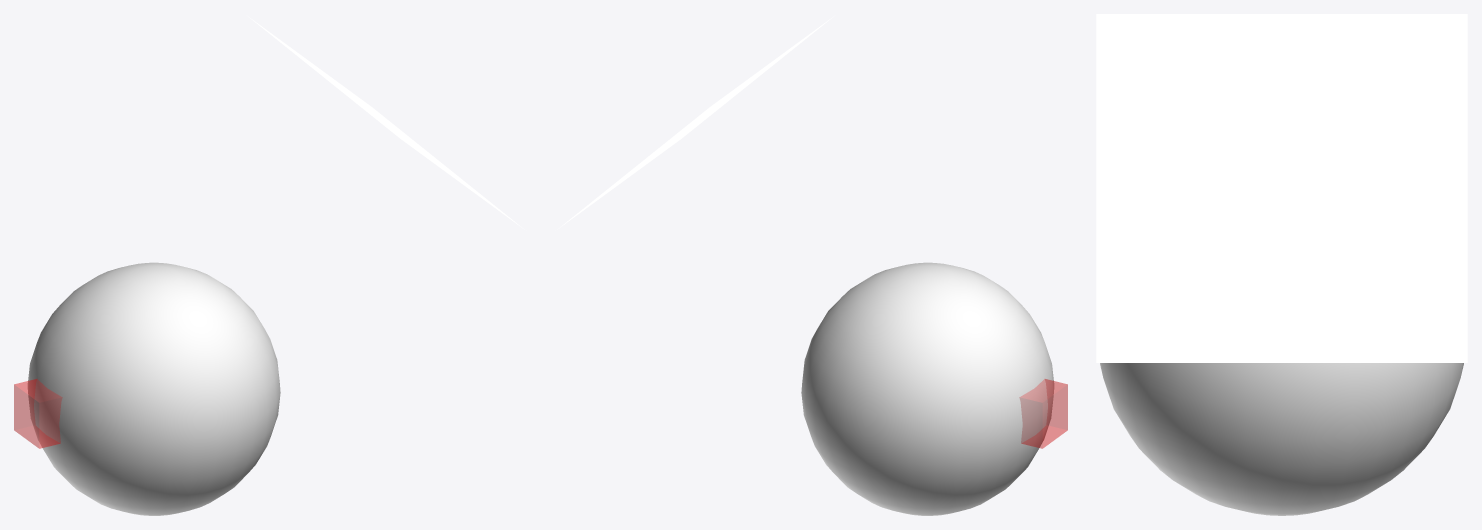
Rendered from nested-dielectrics-complex.gltf.
3 renders of one model, left to right at view 1: azimuth 30°, elevation 25°; view 2: azimuth 150°, elevation 25°; view 3: azimuth 270°, elevation 25°, orthographic. The views are drawn at different scales.
Visible parts, largest first — view 1: Sphere, Cube, Plane; view 2: Sphere, Cube, Plane; view 3: Plane, Sphere.
Boxes of the visible parts, bbox=[...] form: Sphere: bbox=[27, 262, 280, 515]; Cube: bbox=[14, 379, 62, 448]; Plane: bbox=[248, 16, 524, 229]; Sphere: bbox=[801, 262, 1054, 515]; Cube: bbox=[1019, 379, 1067, 448]; Plane: bbox=[557, 16, 833, 229]; Plane: bbox=[1096, 14, 1467, 362]; Sphere: bbox=[1100, 363, 1463, 515].
Size of what is drawn, in the model's own units: 3.98 by 3.53 by 2.
